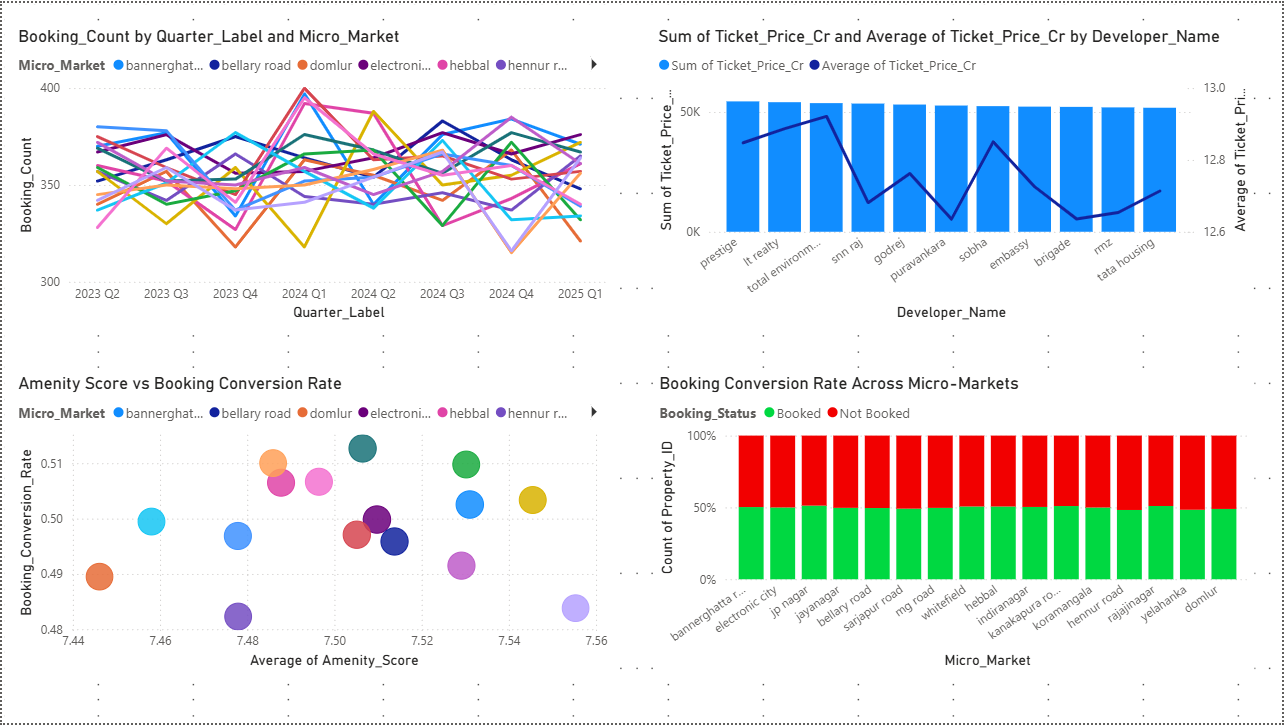

The page's visual inventory and layout, read from the dashboard file:
{"tool":"powerbi","page":{"name":"Luxury Housing Market Trends & Builder Performance","canvas":[1280,720],"ordinal":0},"visuals":[{"type":"lineChart","fields":{"Category":["real_estate_db real_estate_data.Quarter_Label"],"Y":["real_estate_db real_estate_data.Booking_Count"],"Series":["real_estate_db real_estate_data.Micro_Market"]},"box":[11,22,600,300],"z":0},{"type":"lineClusteredColumnComboChart","fields":{"Y":["Sum(real_estate_db real_estate_data.Ticket_Price_Cr)"],"Y2":["Avg(real_estate_db real_estate_data.Ticket_Price_Cr)"],"Category":["real_estate_db real_estate_data.Developer_Name"]},"box":[651.8,22,600,300],"z":1000},{"type":"scatterChart","title":"Amenity Score vs Booking Conversion Rate","fields":{"X":["Avg(real_estate_db real_estate_data.Amenity_Score)"],"Y":["real_estate_db real_estate_data.Booking_Conversion_Rate"],"Size":["CountNonNull(real_estate_db real_estate_data.Property_ID)"],"Series":["real_estate_db real_estate_data.Micro_Market"]},"box":[11,370,600,300],"z":2000},{"type":"hundredPercentStackedColumnChart","title":"Booking Conversion Rate Across Micro-Markets","fields":{"Category":["real_estate_db real_estate_data.Micro_Market"],"Y":["CountNonNull(real_estate_db real_estate_data.Property_ID)"],"Series":["real_estate_db real_estate_data.Booking_Status"]},"box":[652,370,600,300],"z":3000}]}

Visuals, with their boxes in screenshot pixels (x1, y1, x2, y2), scaled from the page's 1280x720 canvas onto the 1285x725 screenshot:
lineChart - real_estate_db real_estate_data.Quarter_Label x real_estate_db real_estate_data.Booking_Count: select_region(11, 22, 613, 324)
lineClusteredColumnComboChart - Sum(real_estate_db real_estate_data.Ticket_Price_Cr) x Avg(real_estate_db real_estate_data.Ticket_Price_Cr): select_region(654, 22, 1257, 324)
"Amenity Score vs Booking Conversion Rate" scatterChart: select_region(11, 373, 613, 675)
"Booking Conversion Rate Across Micro-Markets" hundredPercentStackedColumnChart: select_region(655, 373, 1257, 675)
